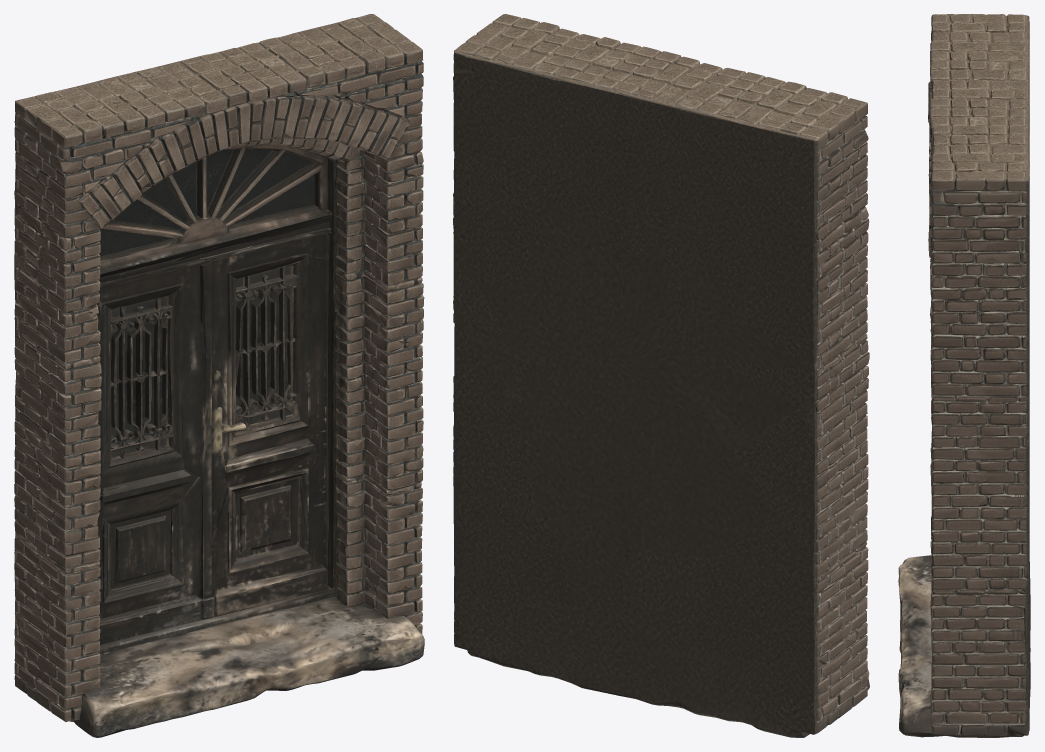
Rendered from familok_street_door__dark.glb.
The picture shows the model from 3 angles, left to right: view 1: azimuth 30°, elevation 25°; view 2: azimuth 150°, elevation 25°; view 3: azimuth 270°, elevation 25°; orthographic projection. The views are drawn at different scales.
Size of the model in its own units: 1.21 by 1.9 by 0.402.
Materials: 1 (1 with a texture image).
